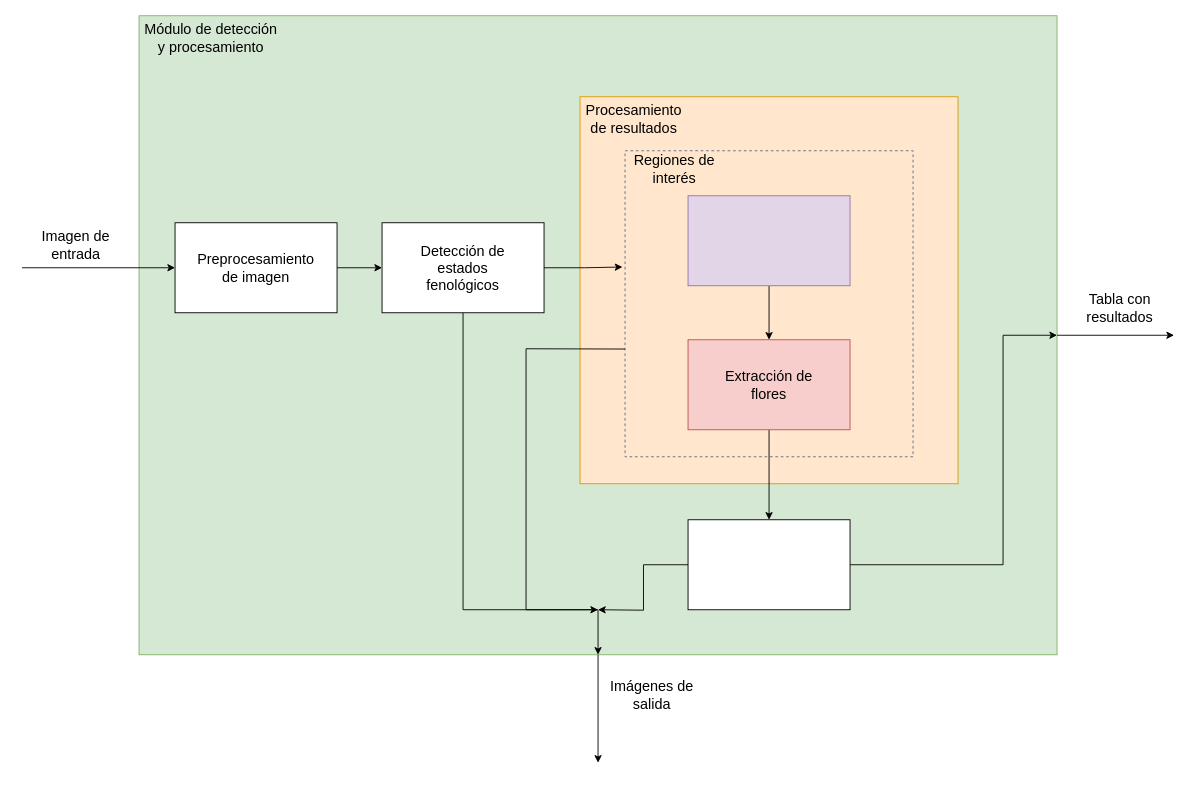
Some shapes in this 1197 by 786 pixel diagram are drawn without their labels. The centre of each missing label's shape, as x and y in pixels:
"Clasificador de flores" goes at (x=768, y=564).
"Conteo de flores" goes at (x=768, y=240).
